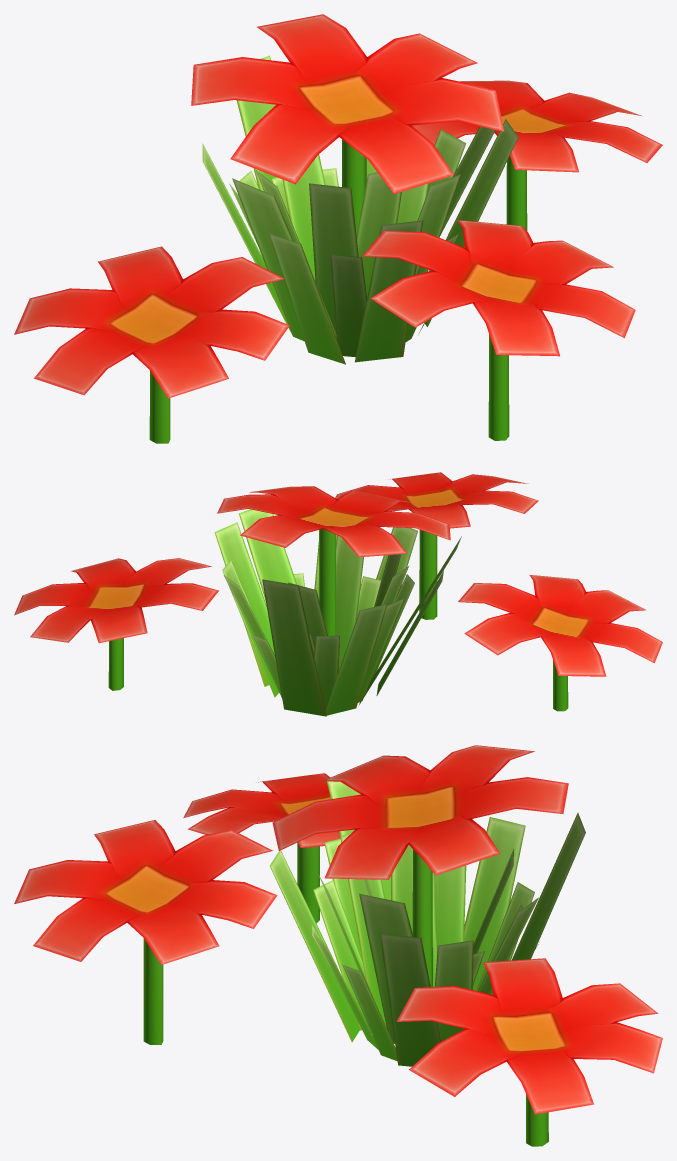
Rendered from SM_Flower_02_B.fbx.
3 views of the same model, one above another, from view 1: azimuth 30°, elevation 25°; view 2: azimuth 150°, elevation 25°; view 3: azimuth 270°, elevation 25° (orthographic). The views are drawn at different scales.
Parts seen in each view (by area): view 1: polySurface693; view 2: polySurface693; view 3: polySurface693.
Part boxes in pixels (<box>): polySurface693: <box>14,14,662,443</box>; polySurface693: <box>14,472,662,716</box>; polySurface693: <box>14,745,662,1146</box>.
Size of the model in its own units: 60.8 by 20.99 by 49.22.
